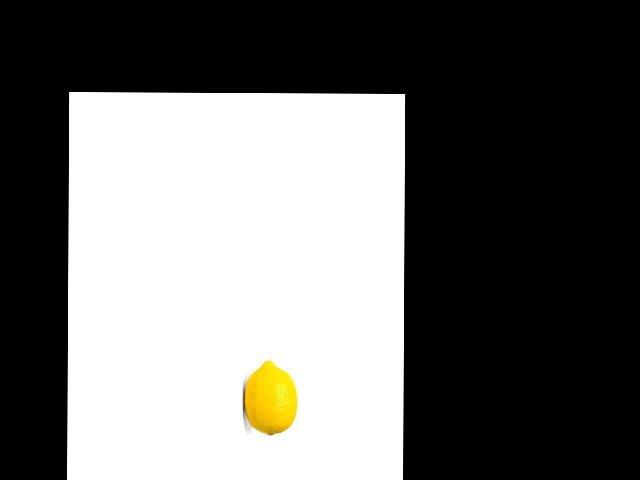lemon: (244, 357, 296, 439)
